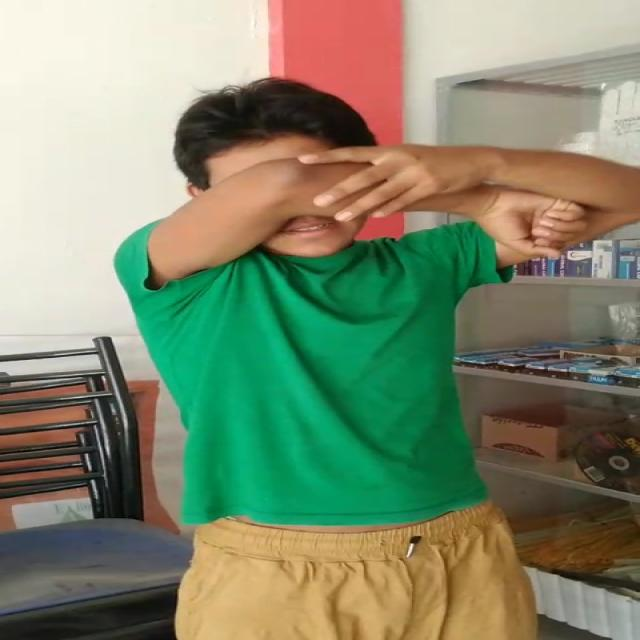7_mano_rostro: (199, 143, 520, 234)
